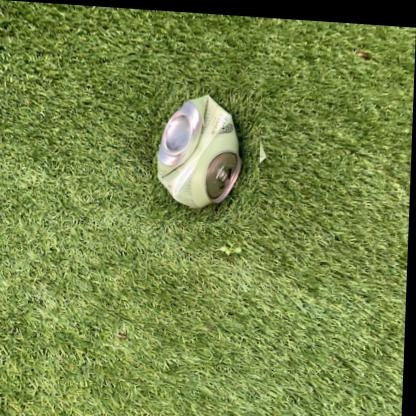trash: (157, 95, 240, 207)
